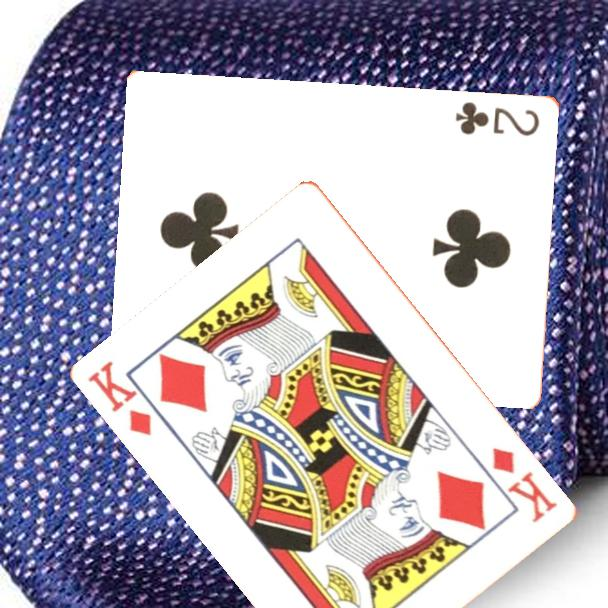c02: (452, 97, 543, 139)
d13: (489, 444, 561, 526), (84, 357, 156, 439)
